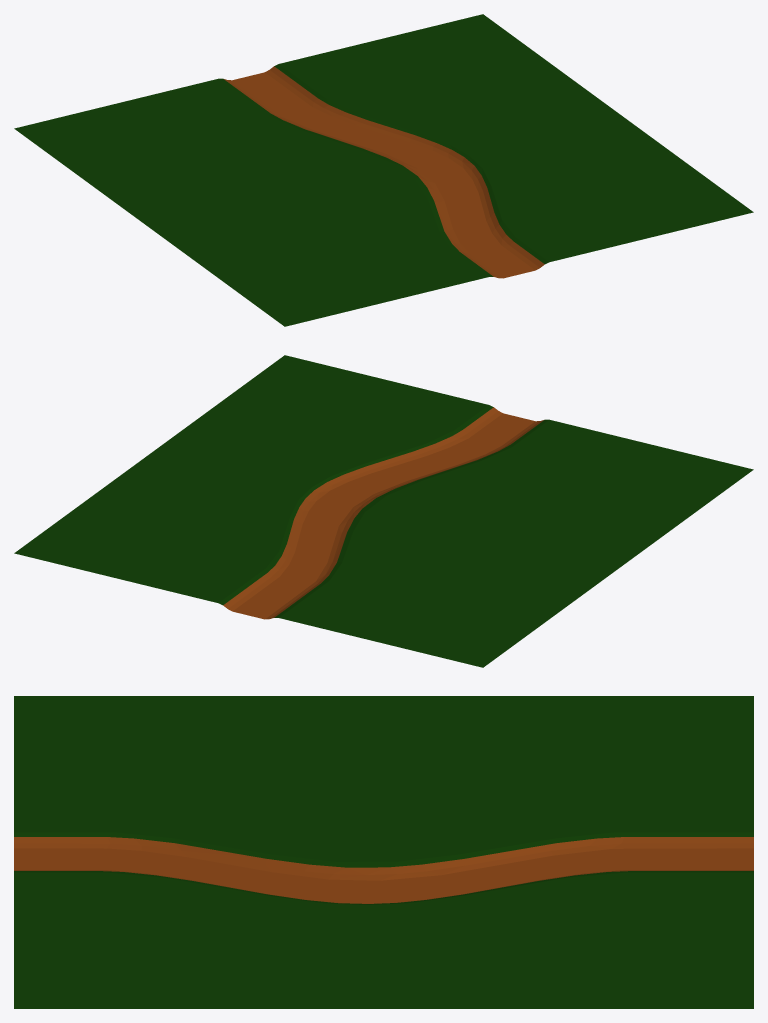
File: Terrain_Part_Plane_9.fbx
3 views of the same model, one above another, from view 1: azimuth 30°, elevation 25°; view 2: azimuth 150°, elevation 25°; view 3: azimuth 270°, elevation 25° (orthographic). The views are drawn at different scales.
Visible parts, largest first — view 1: Terrain_Part_Plane_9; view 2: Terrain_Part_Plane_9; view 3: Terrain_Part_Plane_9.
Boxes of the visible parts, bbox=[...] form: Terrain_Part_Plane_9: bbox=[14, 14, 753, 326]; Terrain_Part_Plane_9: bbox=[14, 355, 753, 667]; Terrain_Part_Plane_9: bbox=[14, 696, 753, 1008].
Bounding box in the file's own units: 2000 × 20 × 2000.
